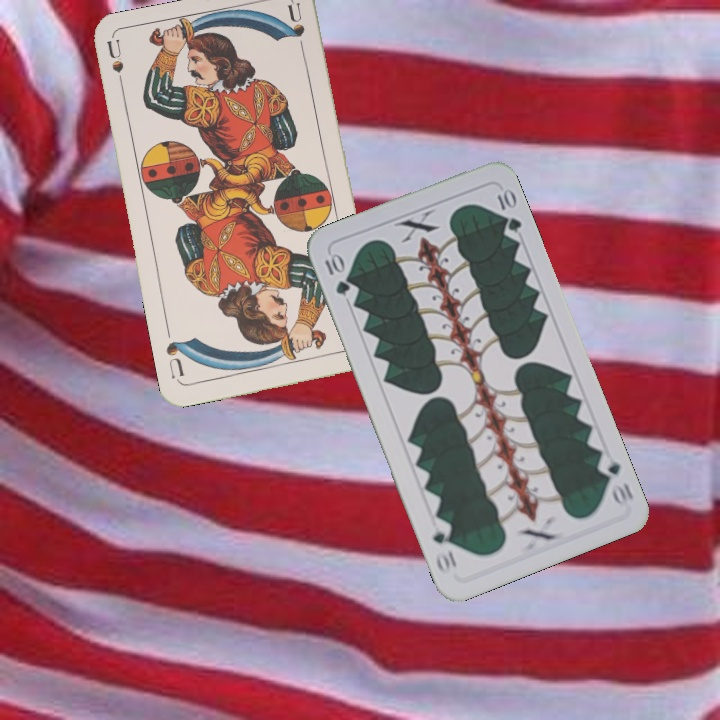G10: (593, 450, 637, 510), (320, 249, 353, 298)
SU: (103, 37, 128, 97)
